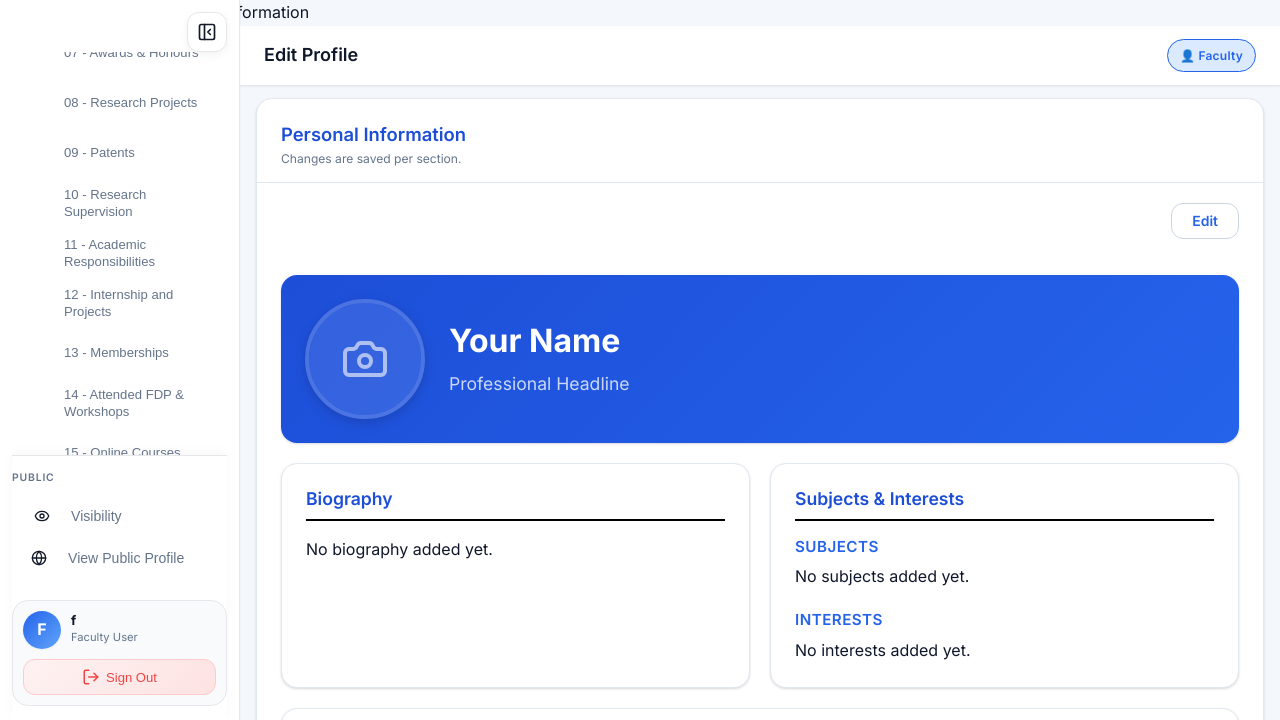
Test: Faculty Profile Edit sidebar numbering › clicking "11 - Academic Responsibilities" navigates to /faculty/profile/edit/academic-responsibilities and opens that section
The image size is (1280, 720).
(page scrolled)
What coordinates should you click on to do the following:
click the button "11 - Academic Responsibilities"
I would click on:
 (118, 254)
Its box is left=12, top=232, right=225, bottom=276.
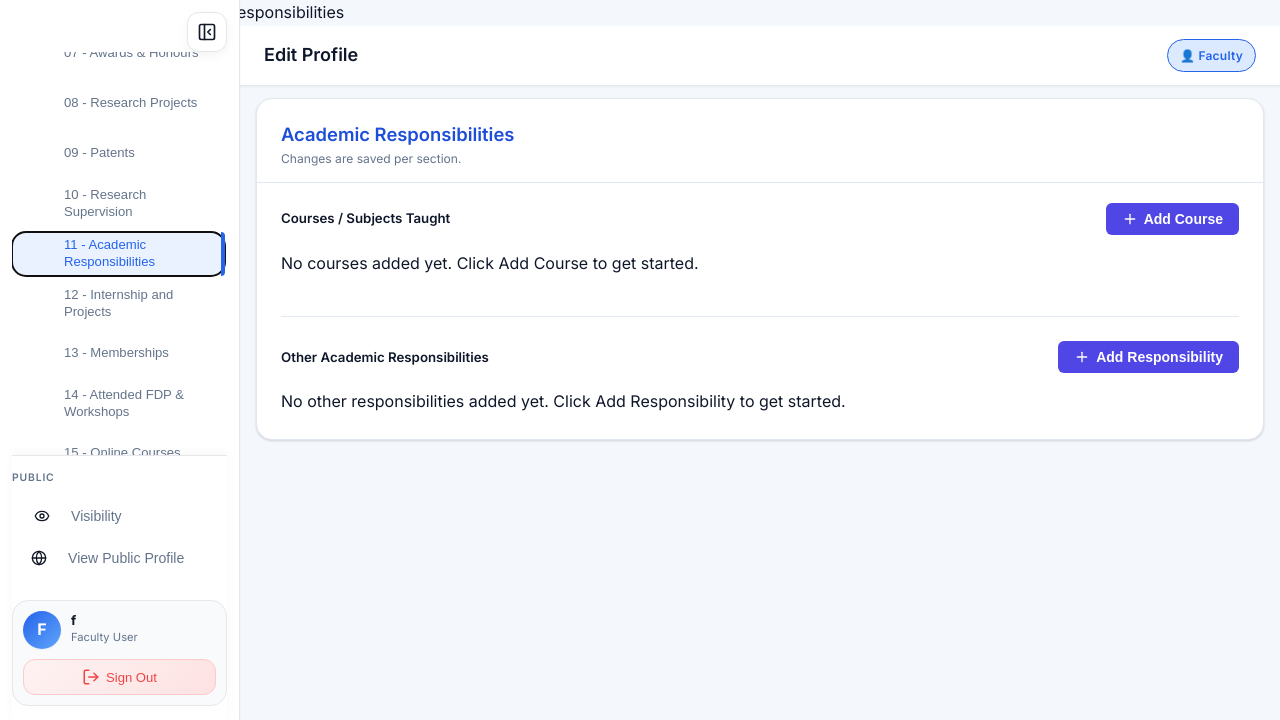
Expected: the text with test id "path" reads "/faculty/profile/edit/academic-responsibilities", left=0, top=2, right=344, bottom=22
Expected: the heading "Academic Responsibilities" is shown, left=281, top=123, right=514, bottom=146
